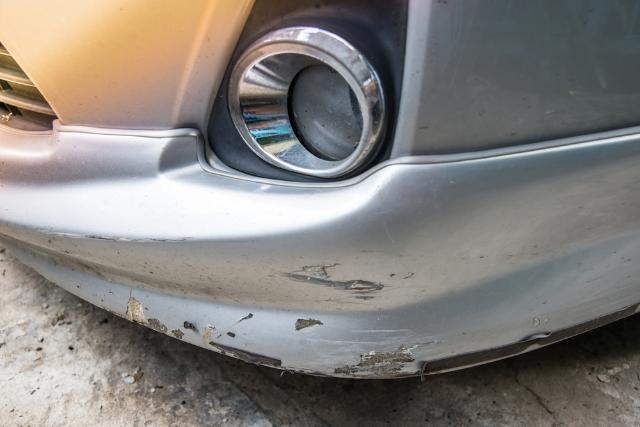scratch: (39, 225, 452, 382)
